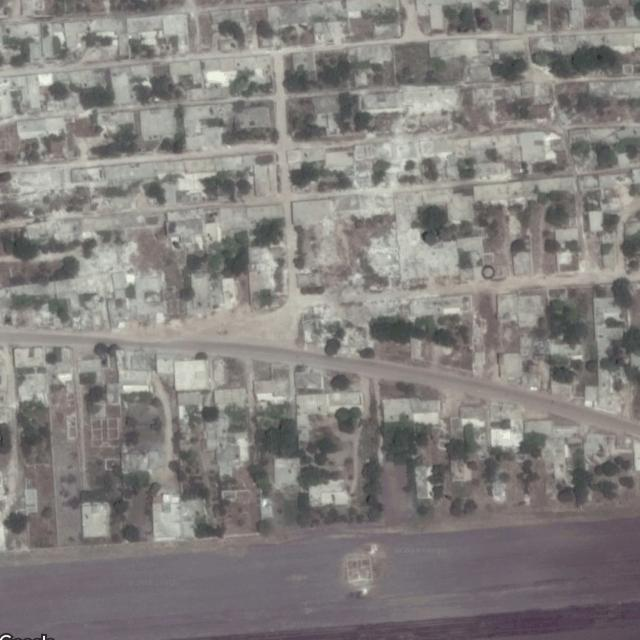damaged_building: (70, 241, 134, 336), (301, 301, 412, 353), (389, 84, 463, 136), (350, 224, 399, 289), (315, 212, 339, 263), (360, 192, 393, 216)
